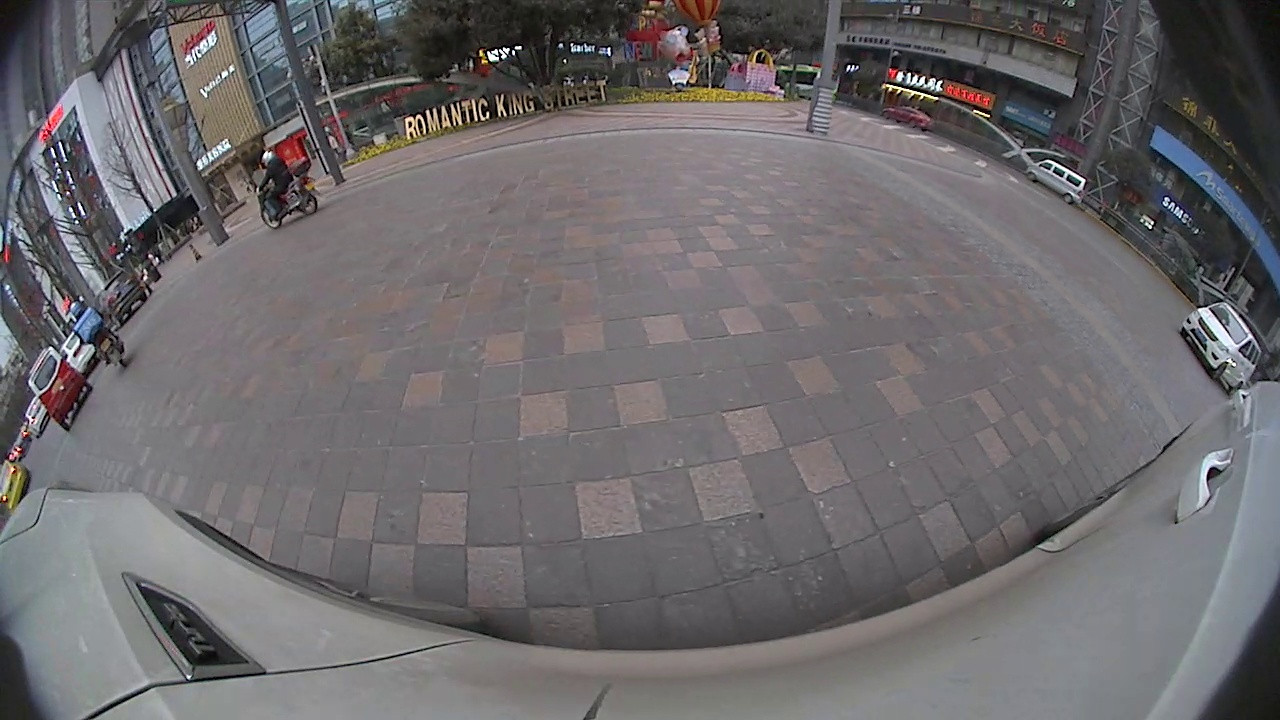car: (1181, 304, 1260, 391), (1027, 159, 1086, 201), (103, 271, 148, 318), (876, 106, 933, 130)
front: (259, 206, 281, 230), (1207, 361, 1227, 382), (1025, 168, 1040, 187)
rear: (298, 193, 319, 216), (1062, 192, 1076, 209)
rider: (27, 351, 91, 431), (256, 152, 317, 229), (71, 306, 129, 371)
